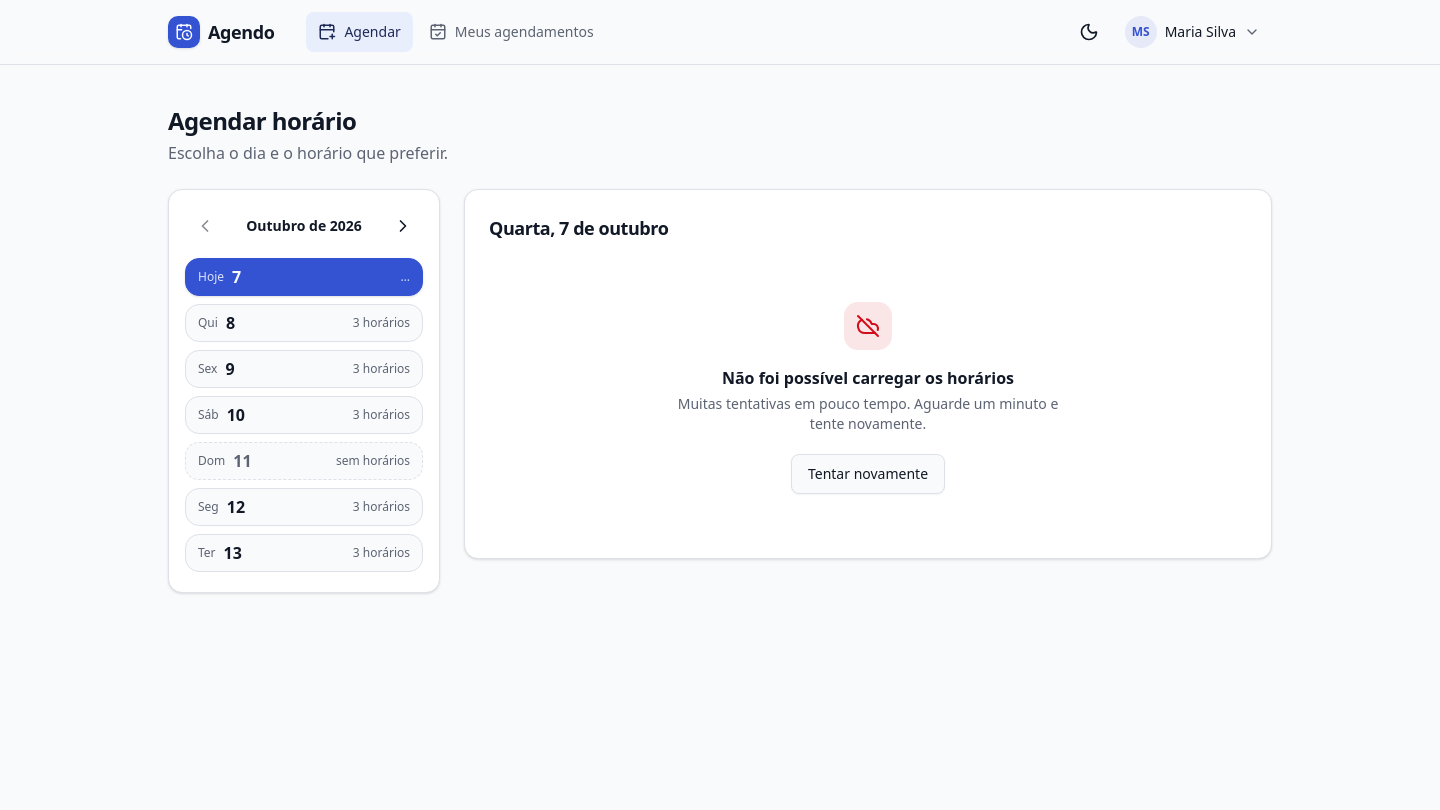
Test: BookPage › shows an error with a retry when the slots cannot be loaded
This screenshot has width=1440, height=810.
Expected: the text "Não foi possível carregar os horários" is shown, [722,366,1014,390]
Click the button "Tentar novamente" at (868, 474), box [791,454,945,494]
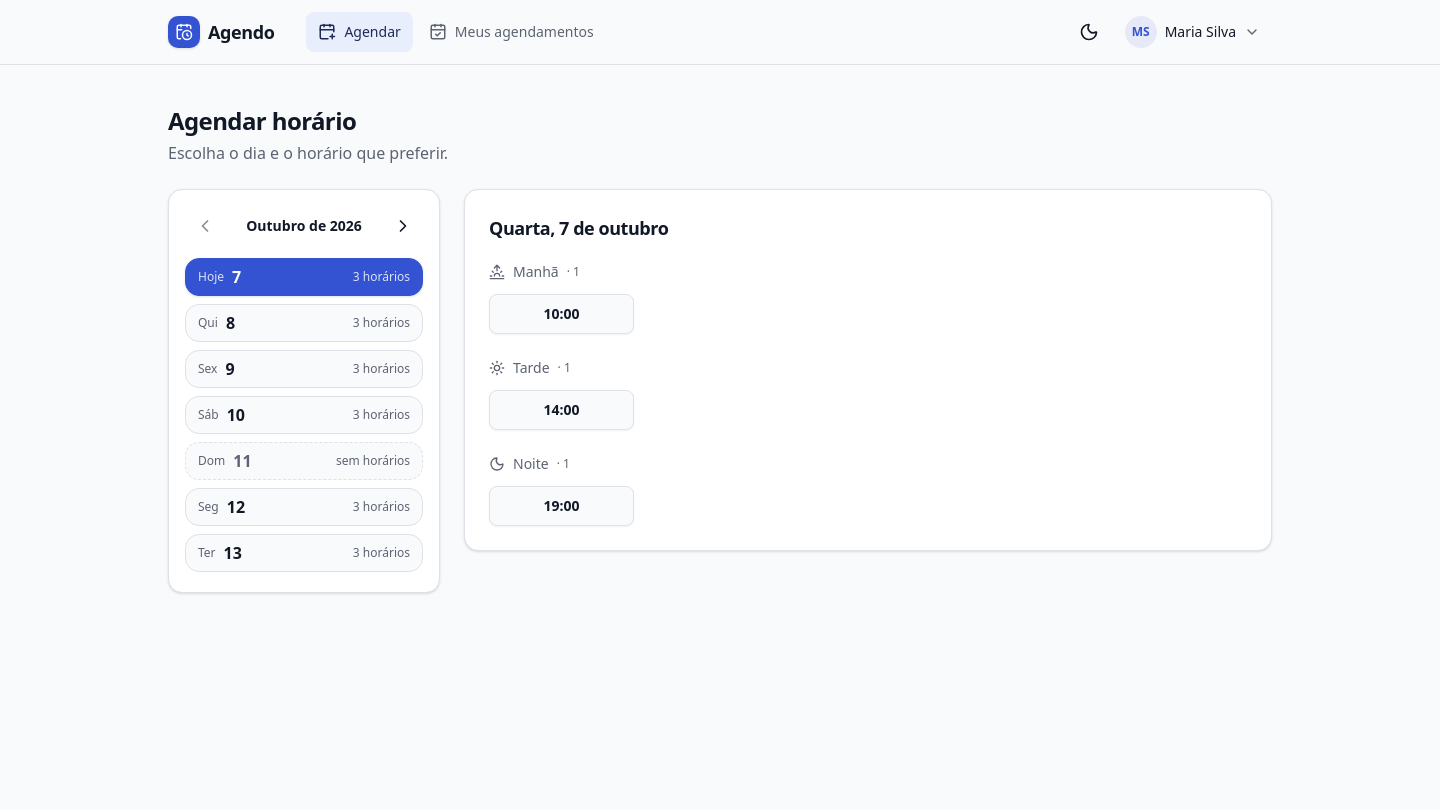
Now the button "10:00" is shown, box [489,294,634,334]
